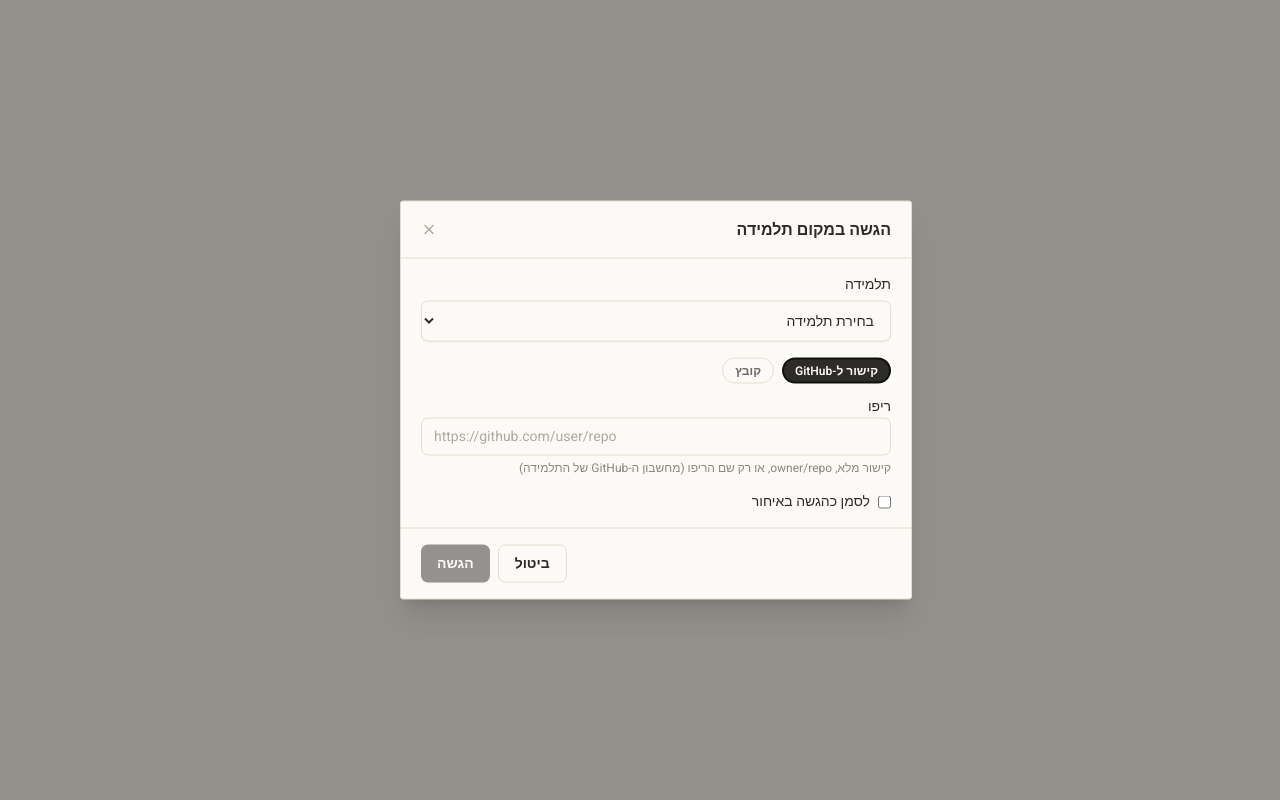
Test: SubmitForStudentDialog › says a new submission replaces the one a student already has
Select "רחל (כבר הגישה)" in the dropdown at (656, 321), box x1=421 y1=300 x2=891 y2=342
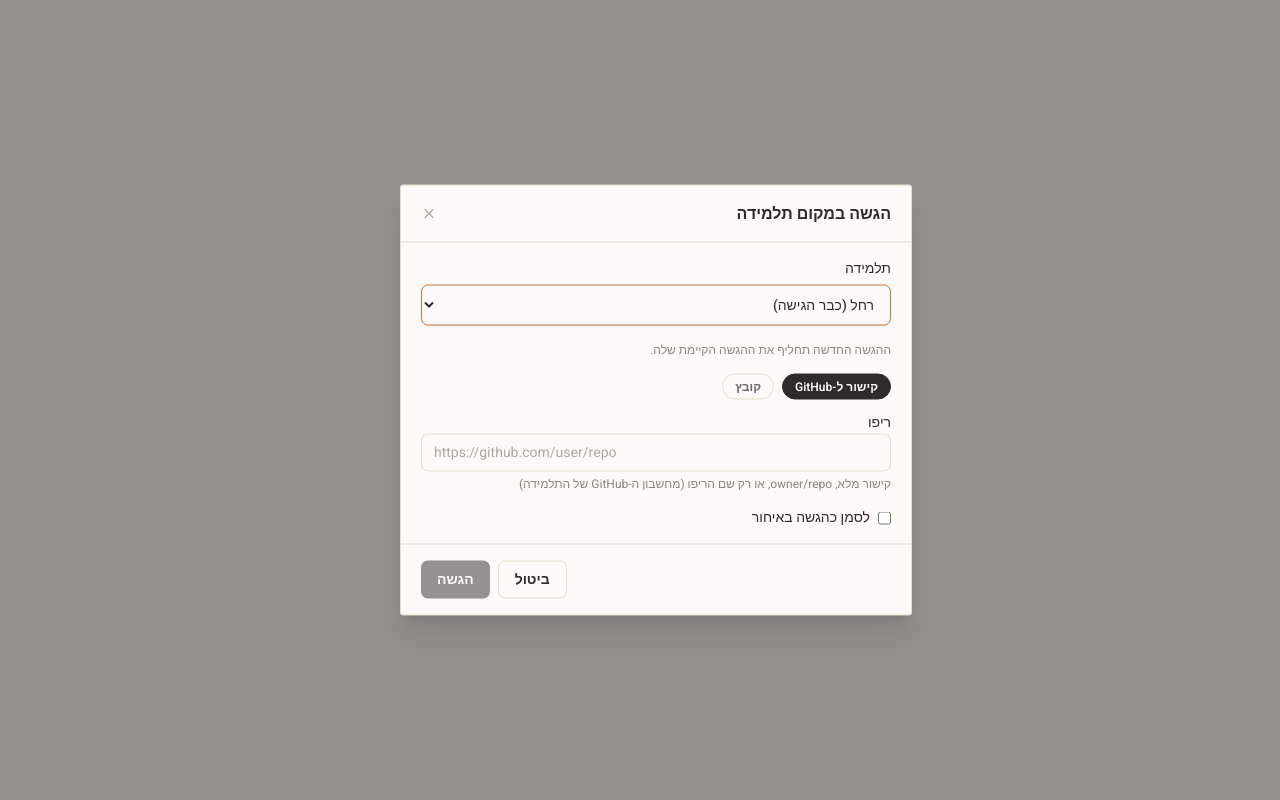
expect the text "ההגשה החדשה תחליף את ההגשה הקיימת שלה." is shown: met, box x1=650 y1=340 x2=891 y2=358
